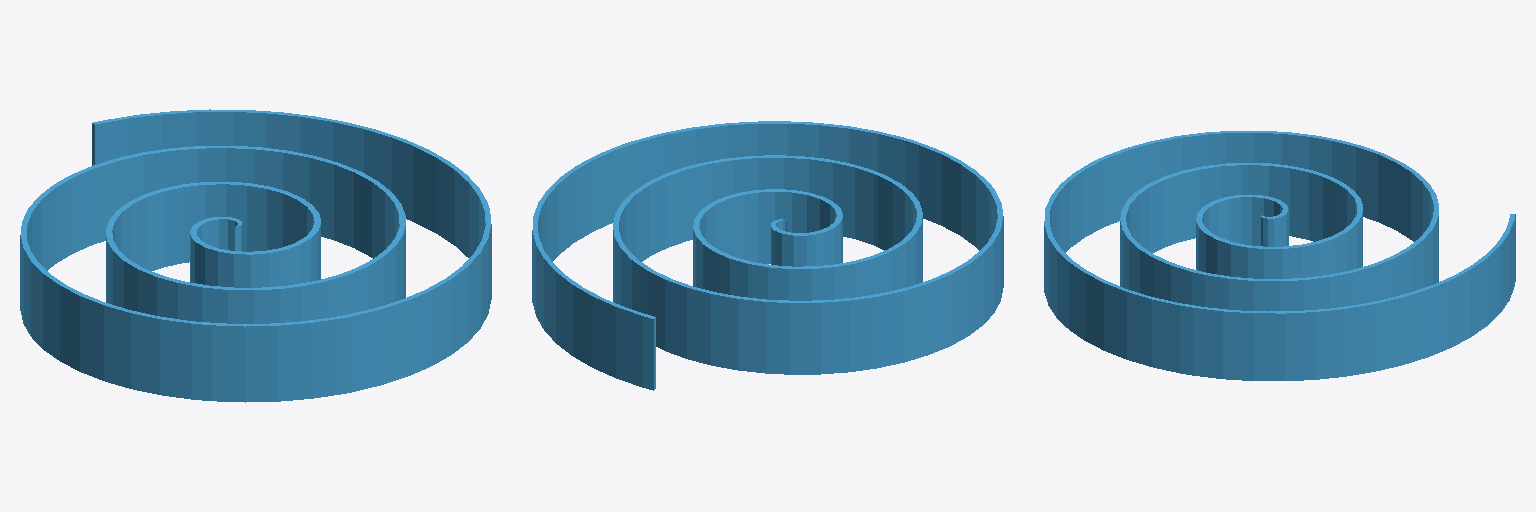
URDF robot description (spiral):
<?xml version="1.0"?>
<robot name="spiral">
	<gazebo>
        <plugin name="gazebo_ros_control" filename="libgazebo_ros_control.so">
            <robotNamespace>/spiral</robotNamespace>
        </plugin>
    </gazebo>
    <link name="base_spiral">
    	<inertial>
    		<origin xyz="0 0 0" rpy="0 0 0"/>
    		<mass value = "0.0000006" />
    		<inertia ixx="9.99e-14" ixy="0.0" ixz="0.0" iyy="9.99e-14" iyz="0.0" izz="9.99e-14"/>
    	</inertial>
    	<collision>
    		<origin xyz="0 0 0" rpy="0 0 0"/>
    		<geometry>
				<box size="0.001 0.001 0.001" />
    		</geometry>
    	</collision>
    	<visual>
			<orgin xyz="0 0 0" rpy="0 0 0"/>
			<geometry>
				<box size="0.001 0.001 0.001" />
    		</geometry>
    	</visual>
    </link>
    <link name="block_spiral">
    	<inertial>
    		<origin xyz="0 0 0" rpy="0 0 0"/>
    		<mass value="647.0" />
    		<inertia ixx="1120.55"	ixy = "89.55" ixz="53.63" iyy="1109.35" iyz="4.09" izz="1987.27" />
    	</inertial>
    	<collision>
    		<origin xyz="0 0 0" rpy="0 0 0"/>
    		<geometry>
    			<mesh filename="package://obstacles/models/meshes/spiral.STL" />
    		</geometry>
    	</collision>
    	<visual>
    		<origin xyz="0 0 0" rpy="0 0 0" />
    		<geometry>
    			<mesh filename="package://obstacles/models/meshes/spiral.STL" />
    		</geometry>
    	</visual>
    </link>
    <joint name="fxd" type="fixed">
		<parent link="base_spiral"/>
		<child link="block_spiral"/>
		<origin xyz="0 0 0" rpy="0 0 0" />
	</joint>
		
	<gazebo reference="block_spiral">
        <kp>100000.0</kp>
        <kd>100000.0</kd>
        <mu1>10.0</mu1>
        <mu2>10.0</mu2>
        <material>Gazebo/PaintedWall</material>
    </gazebo>
</robot>
    

--- What the picture shows (computed from the rendered views, not written in the file) ---
3 views of the same robot in one strip: view 1: azimuth 30°, elevation 25°; view 2: azimuth 150°, elevation 25°; view 3: azimuth 270°, elevation 25° (orthographic).
Model spiral with 2 links and 1 joints (1 fixed), rooted at base_spiral, posed all joints at 0.
Visible links, largest first — view 1: block_spiral; view 2: block_spiral; view 3: block_spiral.
Link boxes in pixels (x1,y1,x2,y2): block_spiral: (20, 109, 491, 402); block_spiral: (532, 121, 1003, 390); block_spiral: (1044, 131, 1515, 380).
Bounding box of the posed robot: 4.34 × 4.72 × 0.7505 m (x, y, z).
1 mesh visuals loaded from 1 distinct referenced files (1 binary STL).